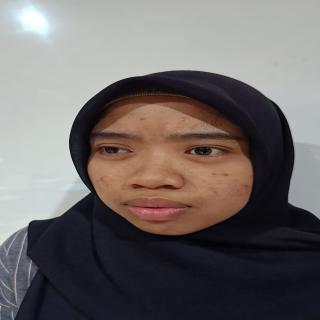Takut: (83, 90, 263, 249)
